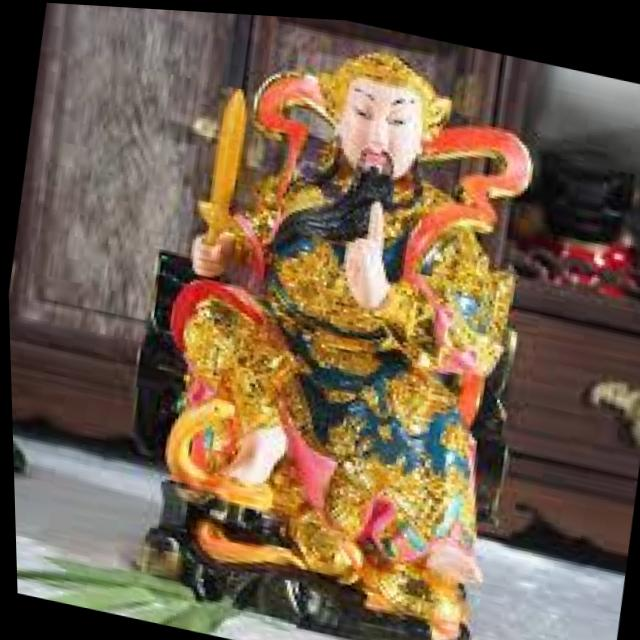Xuan wu: (140, 8, 557, 554)
